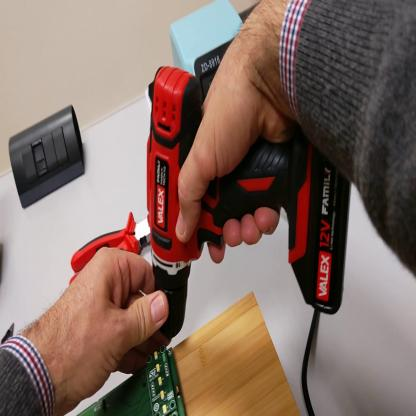electric screwdriver: (142, 68, 311, 342)
hand: (173, 26, 299, 265), (51, 247, 171, 401)
low voltage board: (80, 345, 188, 415)
pliers: (70, 209, 155, 281)
welder station: (169, 7, 246, 104)
working area: (176, 292, 302, 416)
